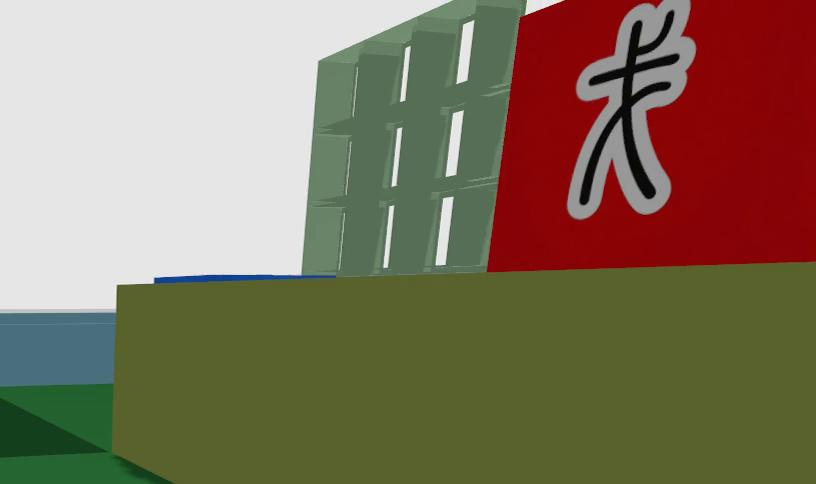KFS_FAKE: (487, 0, 815, 270), (567, 0, 695, 219)
